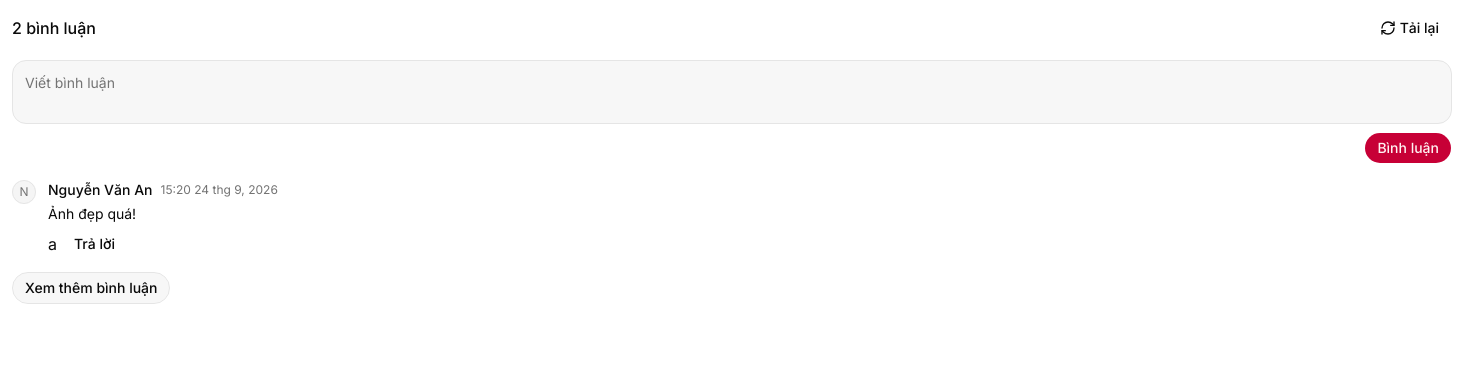
Test case: CommentThread › 'Xem thêm bình luận' truyền cursor NGUYÊN VẸN, hết trang thì nút biến mất
Expected: the number of list items with test id "comment" is 1, [12, 180, 278, 260]
Click the button "Xem thêm bình luận".
click(91, 288)  # box [12, 272, 170, 304]
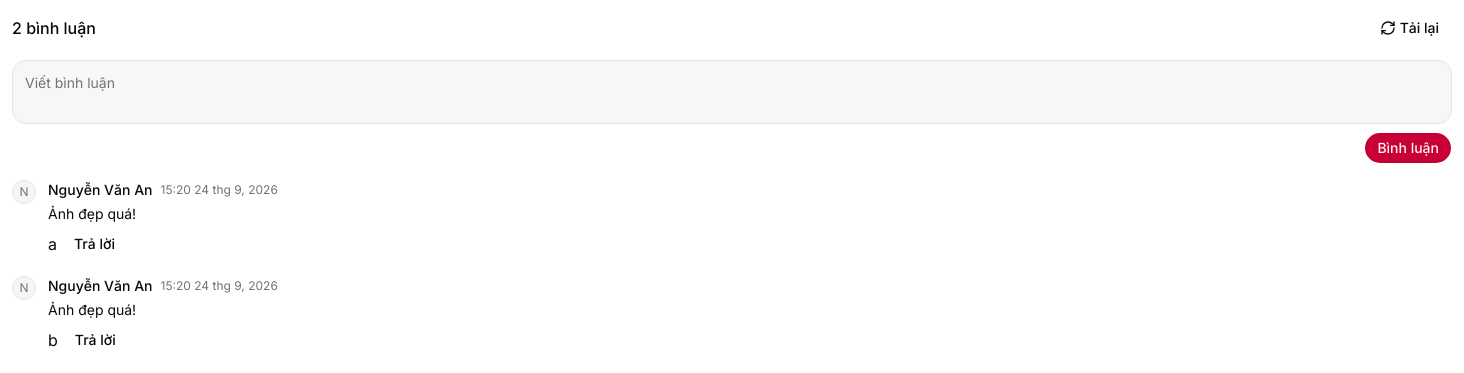
Result: the number of list items with test id "comment" is 2 at [12, 180, 278, 260]; [12, 276, 278, 356]
Result: the button "Xem thêm bình luận" is gone
